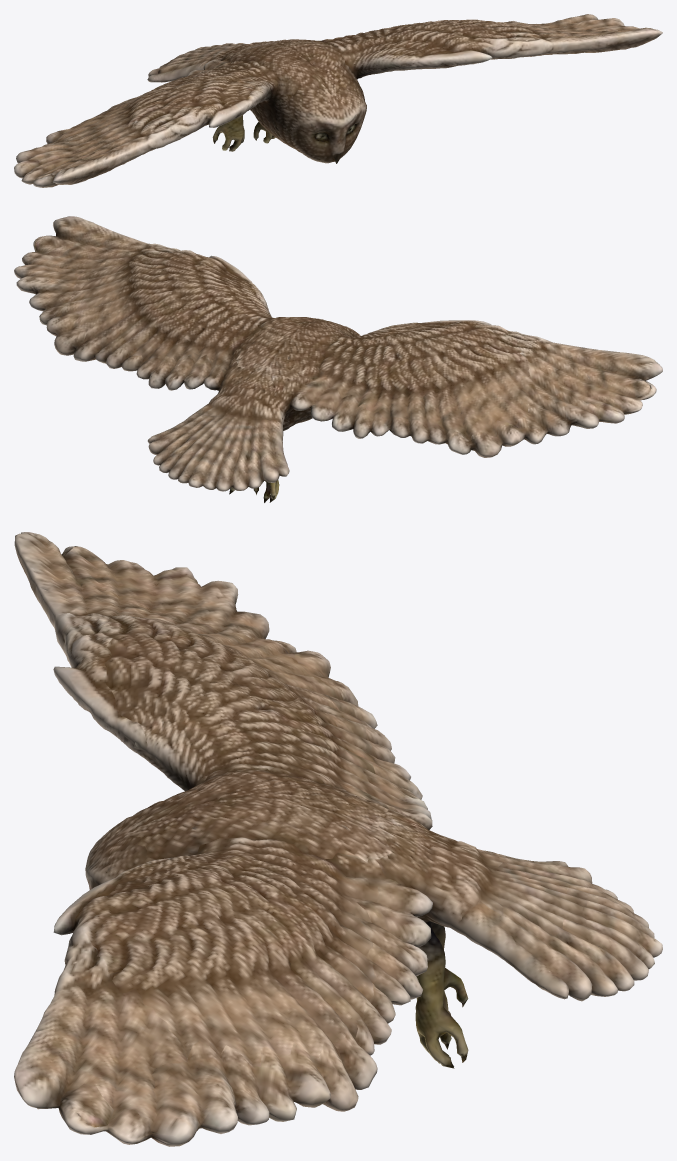
Rendered from MZ4250 - Giant Owl_Great Horned.glb.
The picture shows the model from 3 angles, top to bottom: view 1: azimuth 30°, elevation 25°; view 2: azimuth 150°, elevation 25°; view 3: azimuth 270°, elevation 25°; orthographic projection. The views are drawn at different scales.
Parts seen in each view (by area): view 1: Owl.001; view 2: Owl.001; view 3: Owl.001.
Part boxes in pixels (left/top/right/bottom): Owl.001: left=14, top=14, right=662, bottom=187; Owl.001: left=14, top=216, right=662, bottom=502; Owl.001: left=14, top=532, right=662, bottom=1146.
Bounding box in the file's own units: 2.56 × 0.5603 × 1.21.
1 material, 1 textured.
